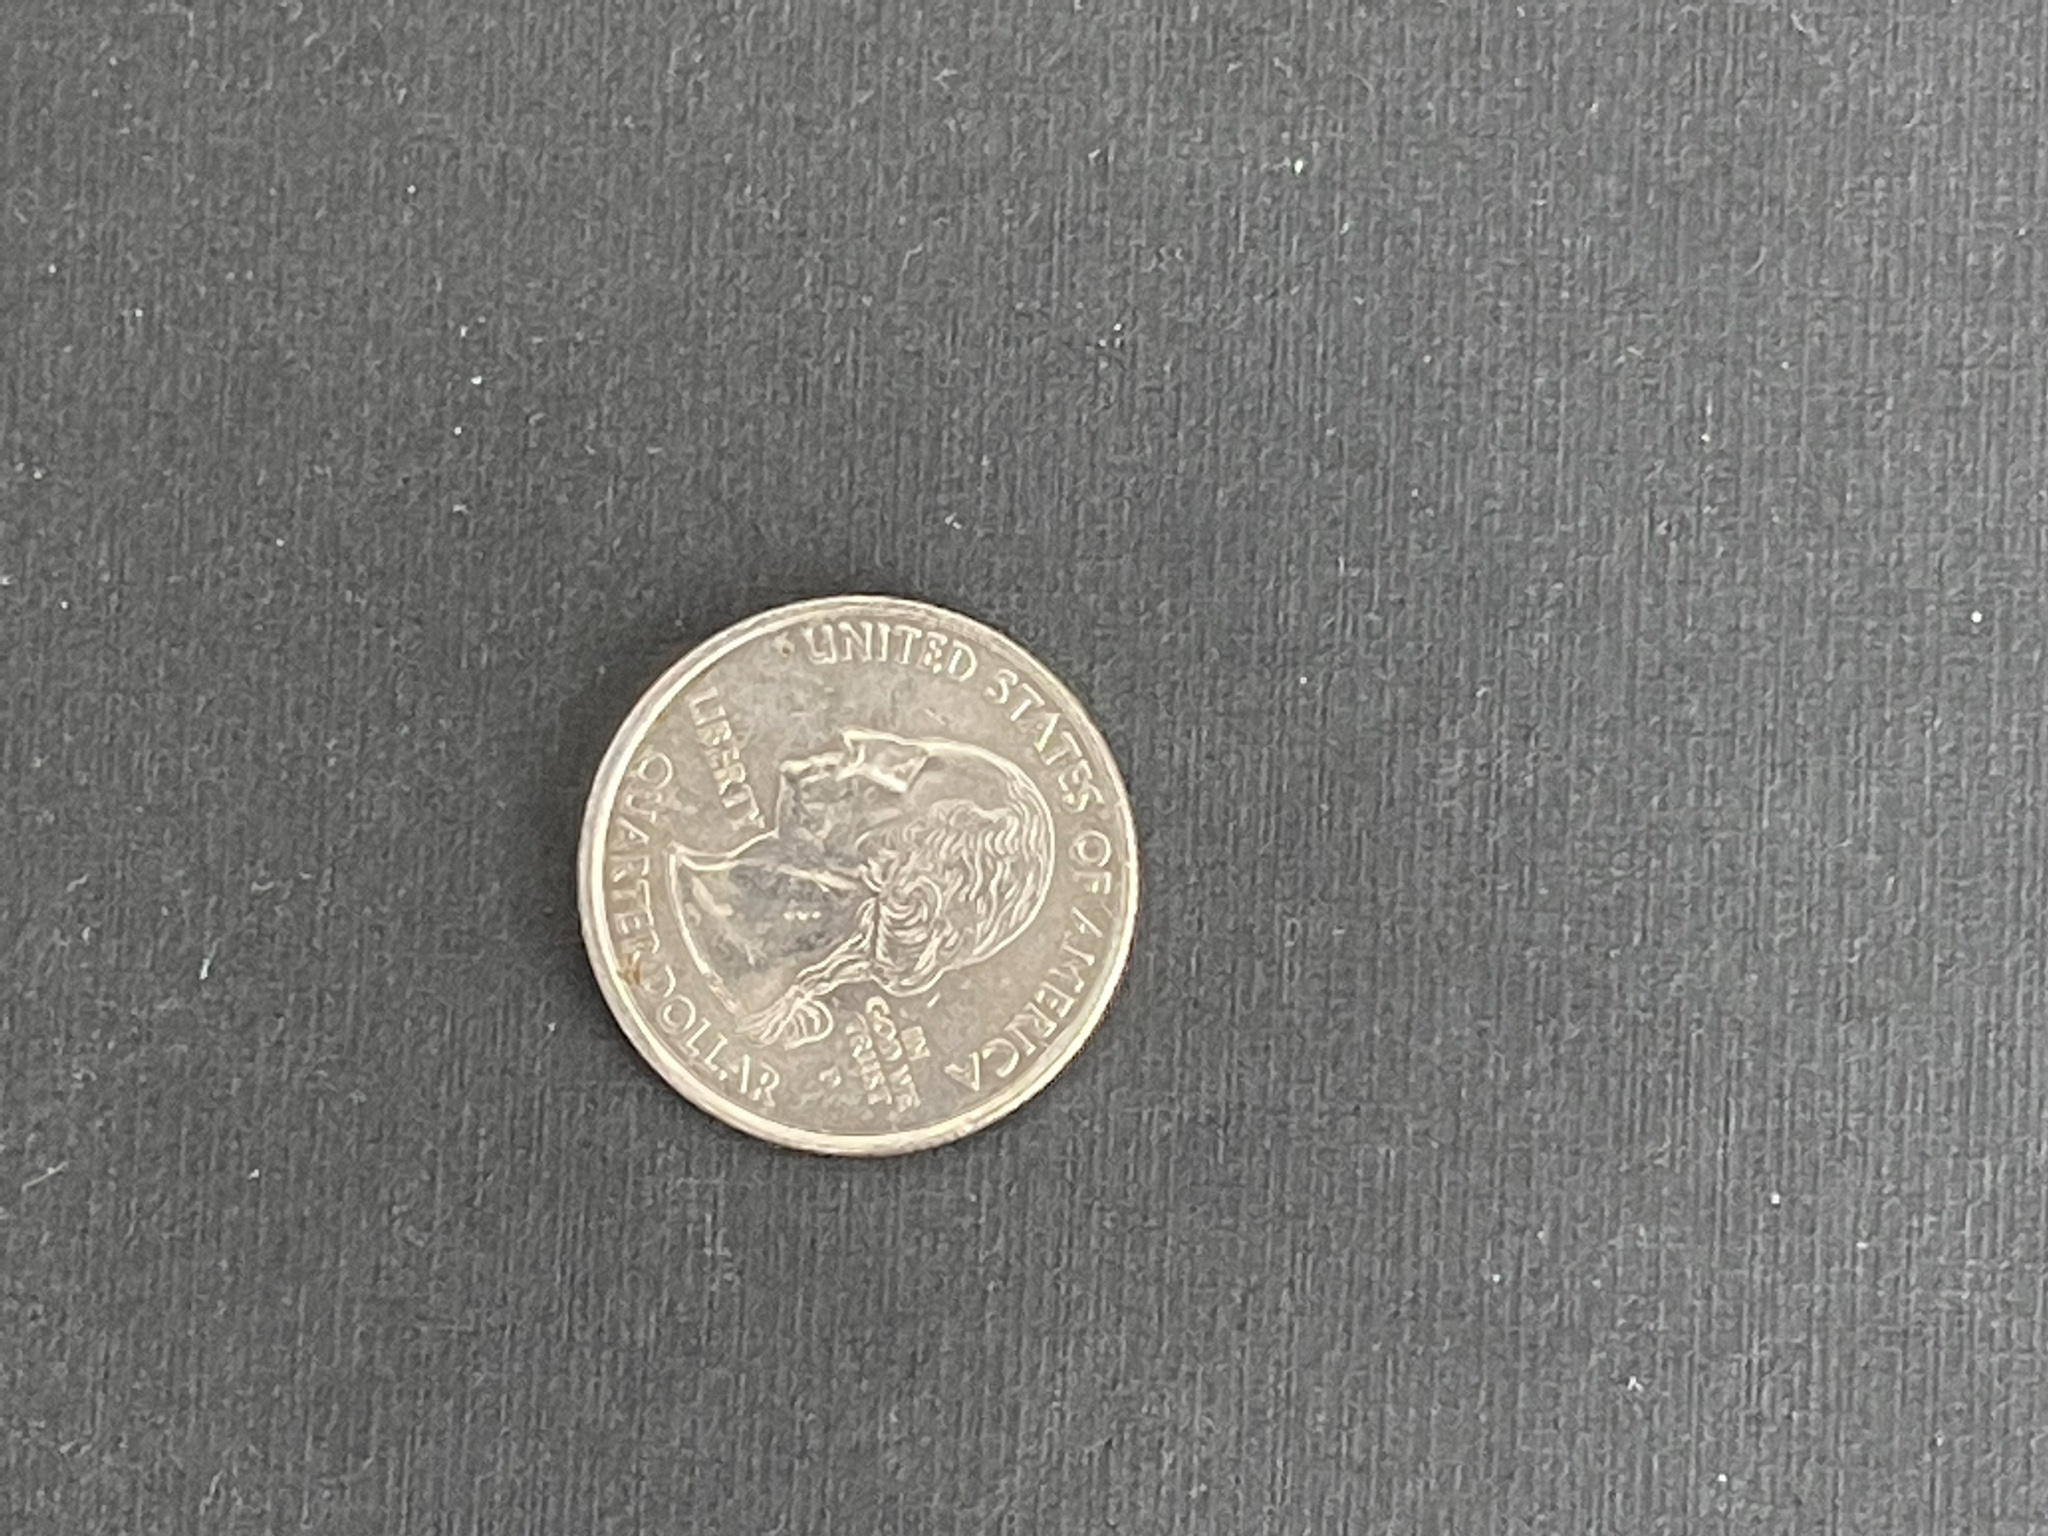quarter: (516, 549, 1192, 1200)
